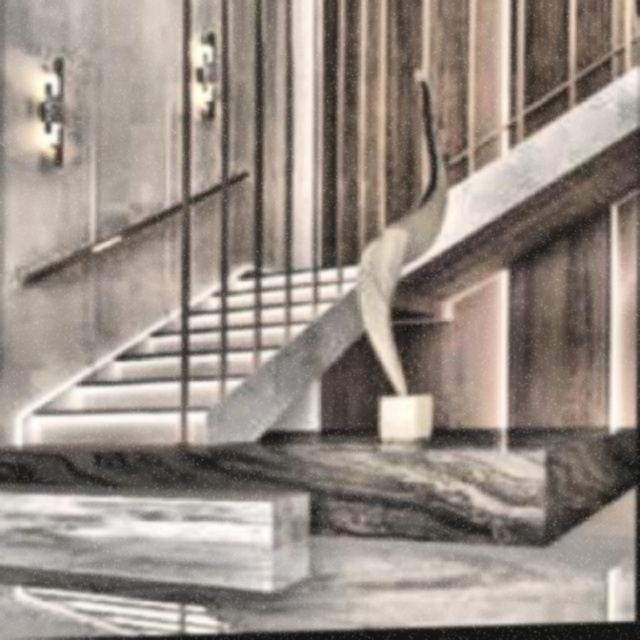stair: (24, 243, 358, 440)
